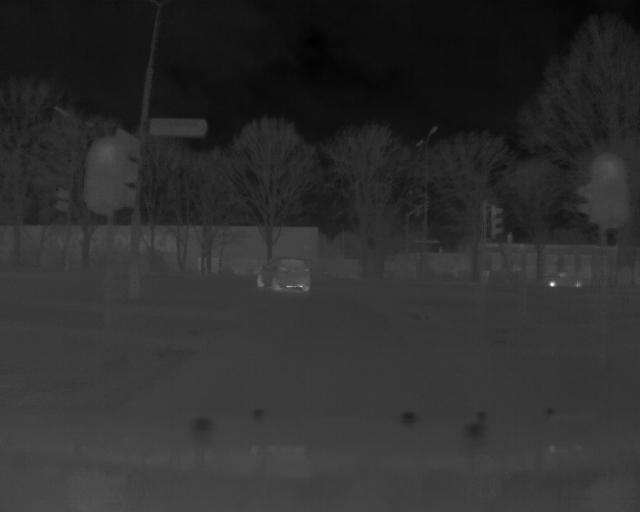car: (254, 255, 315, 293), (541, 268, 590, 289)
